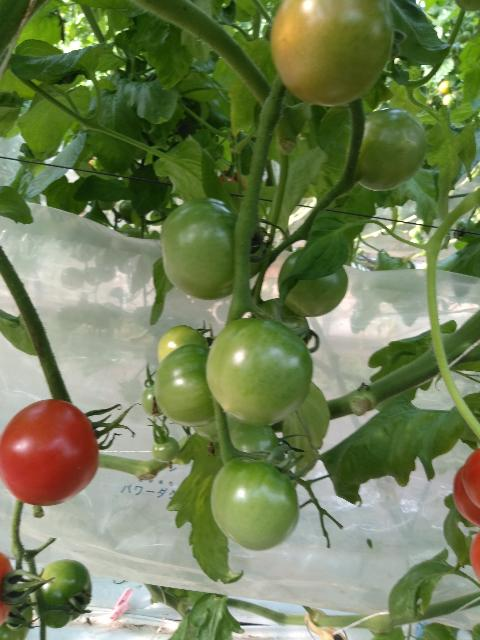l_fully_ripened: (0, 398, 100, 507), (452, 465, 480, 527), (462, 448, 480, 509)
l_green: (205, 318, 313, 426), (209, 456, 300, 552), (161, 197, 238, 301), (346, 107, 426, 192), (154, 344, 228, 427), (277, 249, 347, 318), (34, 559, 92, 629), (251, 297, 309, 345), (231, 421, 284, 471), (0, 581, 34, 640), (157, 325, 208, 364), (194, 412, 240, 444), (141, 384, 164, 416), (152, 436, 179, 461)
l_half_ripened: (270, 0, 394, 108)
